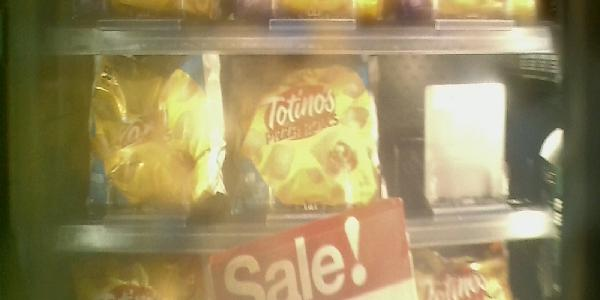icecream: (230, 56, 393, 228), (90, 54, 231, 221)
